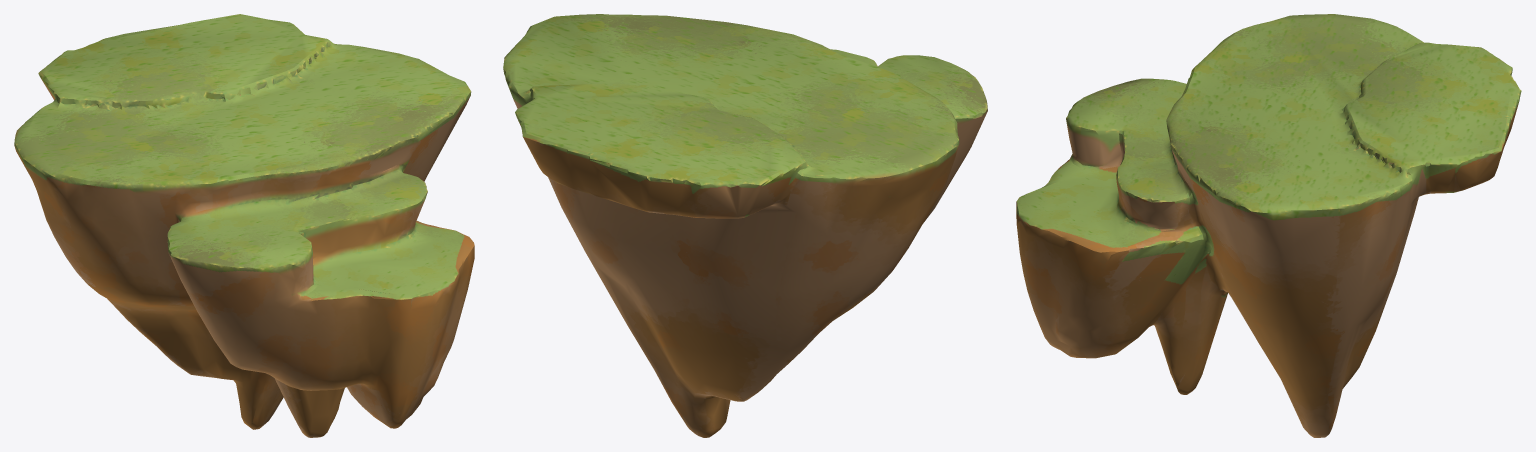
Rendered from Island.fbx.
The picture shows the model from 3 angles, left to right: view 1: azimuth 30°, elevation 25°; view 2: azimuth 150°, elevation 25°; view 3: azimuth 270°, elevation 25°; orthographic projection. The views are drawn at different scales.
Visible parts, largest first — view 1: Plane.002; view 2: Plane.002; view 3: Plane.002.
Boxes of the visible parts, x1,y1,x2,y2 form: Plane.002: [14, 14, 474, 437]; Plane.002: [503, 14, 987, 437]; Plane.002: [1016, 14, 1521, 437].
Bounding box in the file's own units: 691 × 528 × 743.
